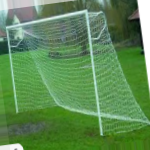goals: (5, 7, 149, 140)
